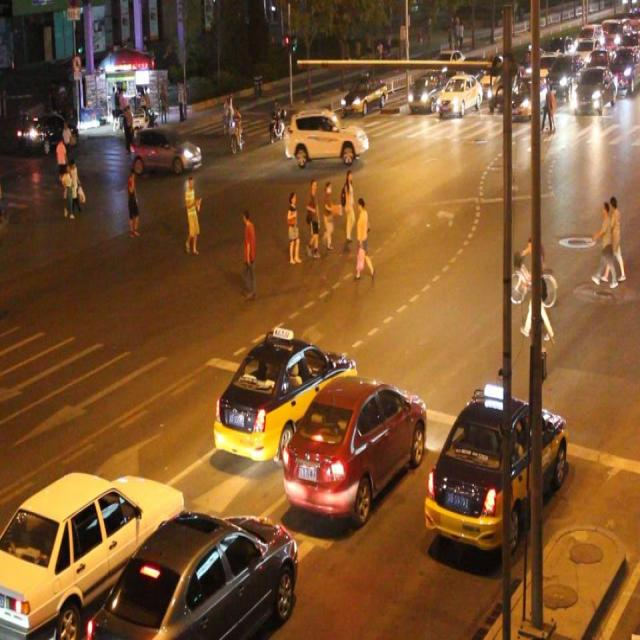car: (1, 469, 184, 640), (92, 516, 296, 640), (426, 393, 567, 552), (283, 377, 426, 515), (213, 332, 353, 462), (283, 109, 368, 164), (132, 124, 202, 173), (339, 72, 386, 115), (436, 71, 478, 114), (406, 72, 443, 111)
